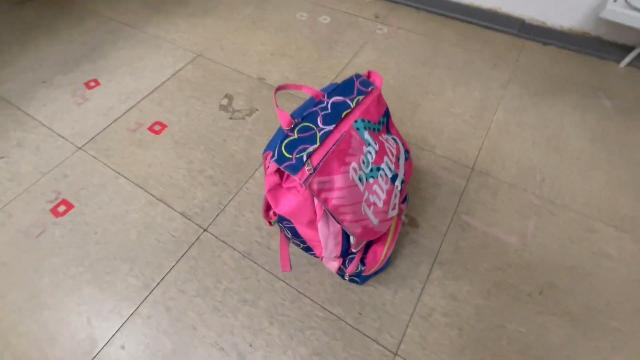Backpack: (256, 62, 422, 292)
